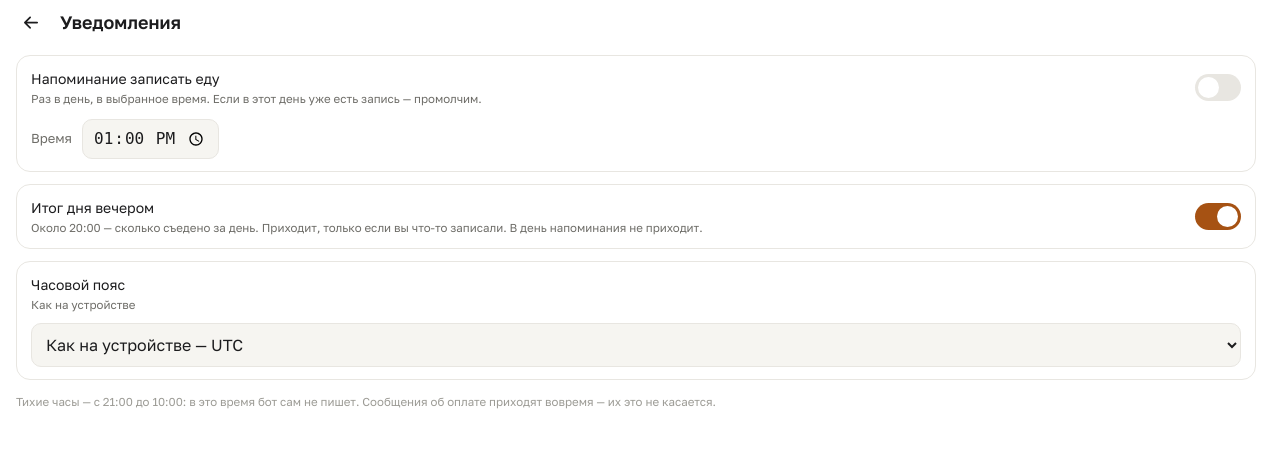
Test case: NotificationsScreen › сбой сохранения — текст ошибки, переключатель не врёт
This screenshot has width=1273, height=456.
Click the switch named "Итог дня вечером" at [1218, 217], box [1195,203,1241,230]
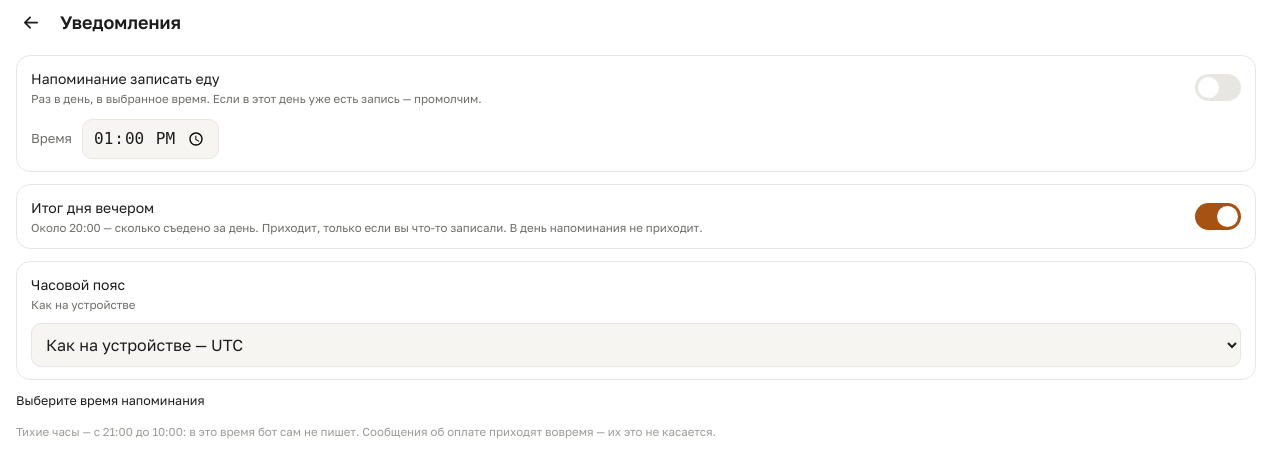
Check: the message reads "Выберите время напоминания", box [16,393,204,408]
